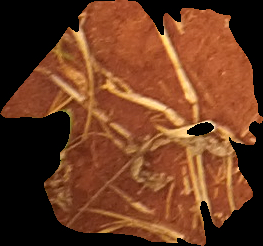soil: (2, 4, 263, 244)
